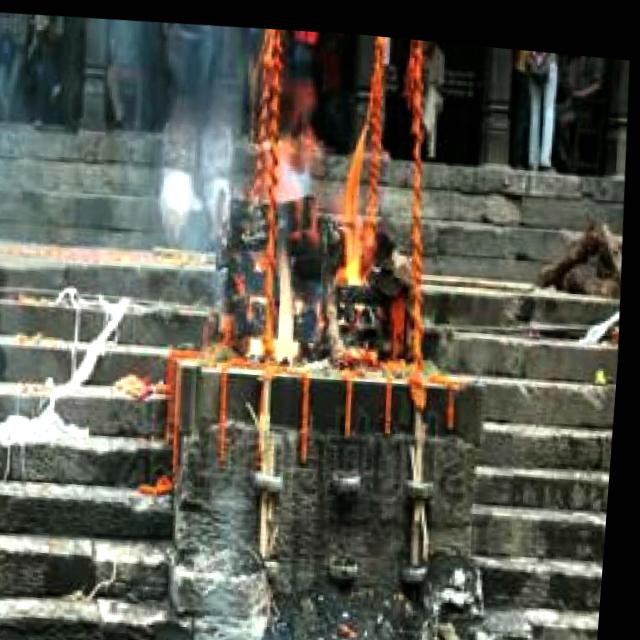helmet: (249, 121, 393, 373)
